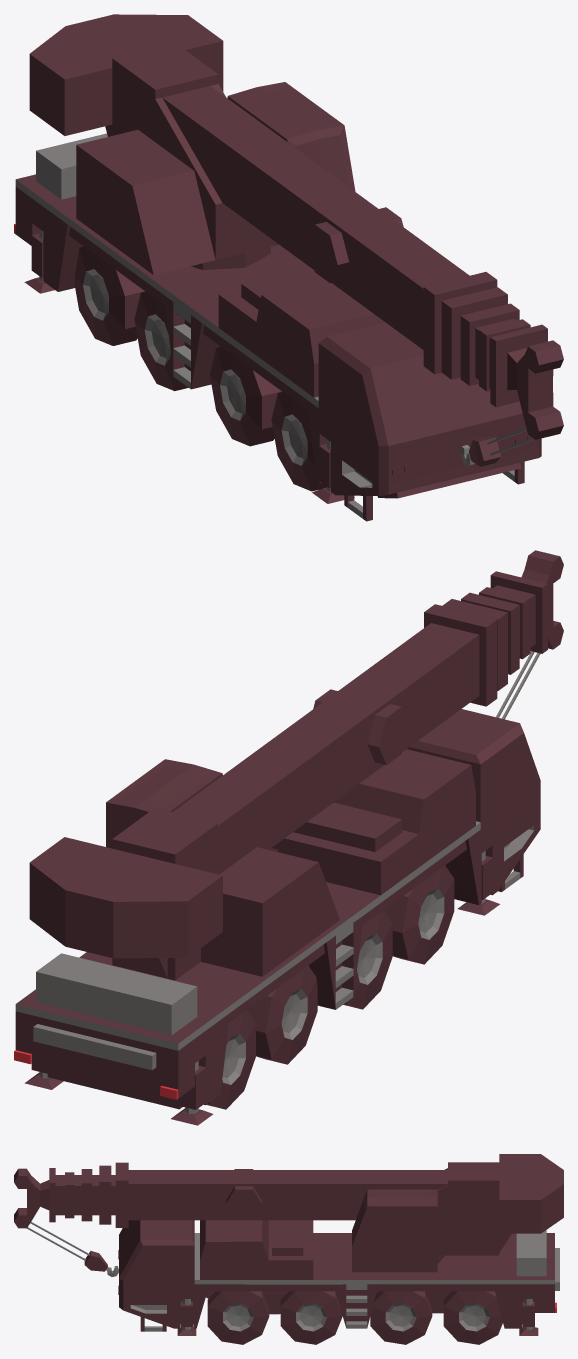
Rendered from vehicles-crane-mobile.glb.
3 renders of one model, top to bottom at view 1: azimuth 30°, elevation 25°; view 2: azimuth 150°, elevation 25°; view 3: azimuth 270°, elevation 25°, orthographic. The views are drawn at different scales.
Parts seen in each view (by area): view 1: crane-mobile-base, crane-mobile-top, crane-mobile-arm, crane-mobile-wheel_FR2, crane-mobile-wheel_BR2, crane-mobile-wheel_FR1, crane-mobile-wheel_BR1, crane-mobile-hook; view 2: crane-mobile-base, crane-mobile-top, crane-mobile-arm, crane-mobile-wheel_FR1, crane-mobile-wheel_BR1, crane-mobile-wheel_FR2, crane-mobile-wheel_BR2; view 3: crane-mobile-base, crane-mobile-arm, crane-mobile-top, crane-mobile-wheel_FL1, crane-mobile-wheel_FL2, crane-mobile-wheel_BL1, crane-mobile-wheel_BL2, crane-mobile-hook.
Part boxes in pixels (bbox=[...]): crane-mobile-base: bbox=[14, 133, 541, 521]; crane-mobile-top: bbox=[29, 14, 355, 274]; crane-mobile-arm: bbox=[162, 86, 563, 439]; crane-mobile-wheel_FR2: bbox=[210, 346, 281, 446]; crane-mobile-wheel_BR2: bbox=[74, 246, 145, 345]; crane-mobile-wheel_FR1: bbox=[271, 392, 326, 491]; crane-mobile-wheel_BR1: bbox=[134, 291, 188, 391]; crane-mobile-hook: bbox=[460, 428, 534, 466]; crane-mobile-base: bbox=[14, 709, 540, 1125]; crane-mobile-top: bbox=[29, 759, 339, 980]; crane-mobile-arm: bbox=[173, 550, 563, 847]; crane-mobile-wheel_FR1: bbox=[384, 865, 454, 964]; crane-mobile-wheel_BR1: bbox=[247, 965, 317, 1064]; crane-mobile-wheel_FR2: bbox=[343, 910, 392, 1009]; crane-mobile-wheel_BR2: bbox=[206, 1011, 255, 1109]; crane-mobile-base: bbox=[118, 1220, 559, 1335]; crane-mobile-arm: bbox=[14, 1162, 447, 1228]; crane-mobile-top: bbox=[352, 1154, 563, 1272]; crane-mobile-wheel_FL1: bbox=[207, 1291, 269, 1344]; crane-mobile-wheel_FL2: bbox=[280, 1291, 342, 1344]; crane-mobile-wheel_BL1: bbox=[370, 1291, 432, 1344]; crane-mobile-wheel_BL2: bbox=[443, 1291, 502, 1344]; crane-mobile-hook: bbox=[26, 1222, 118, 1276].
Bounding box in the file's own units: 2.87 × 3.88 × 12.54.
